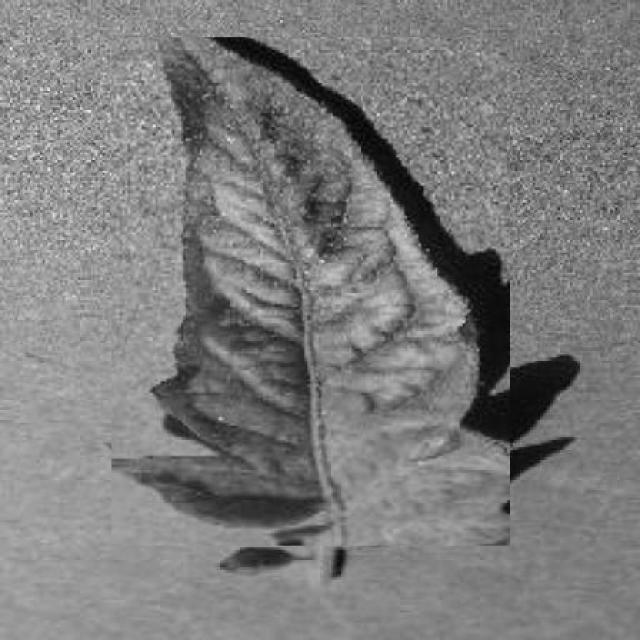Mosaic Virus: (111, 37, 510, 546)
